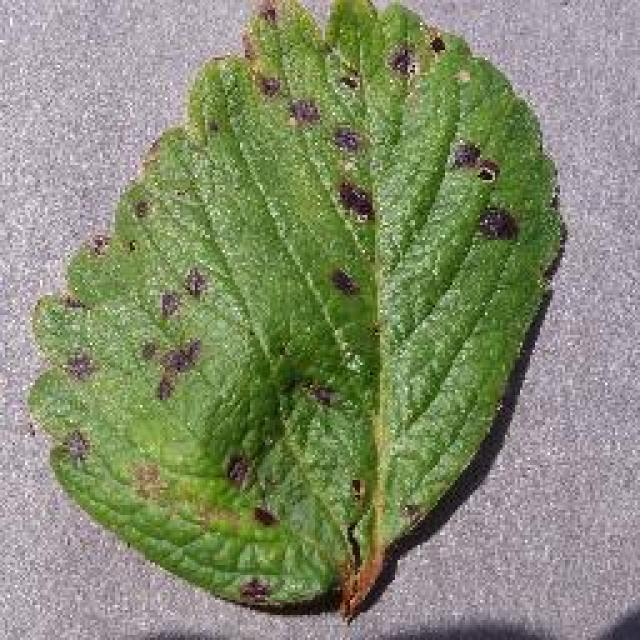Strawberry leaf scorch: (55, 13, 530, 535)
